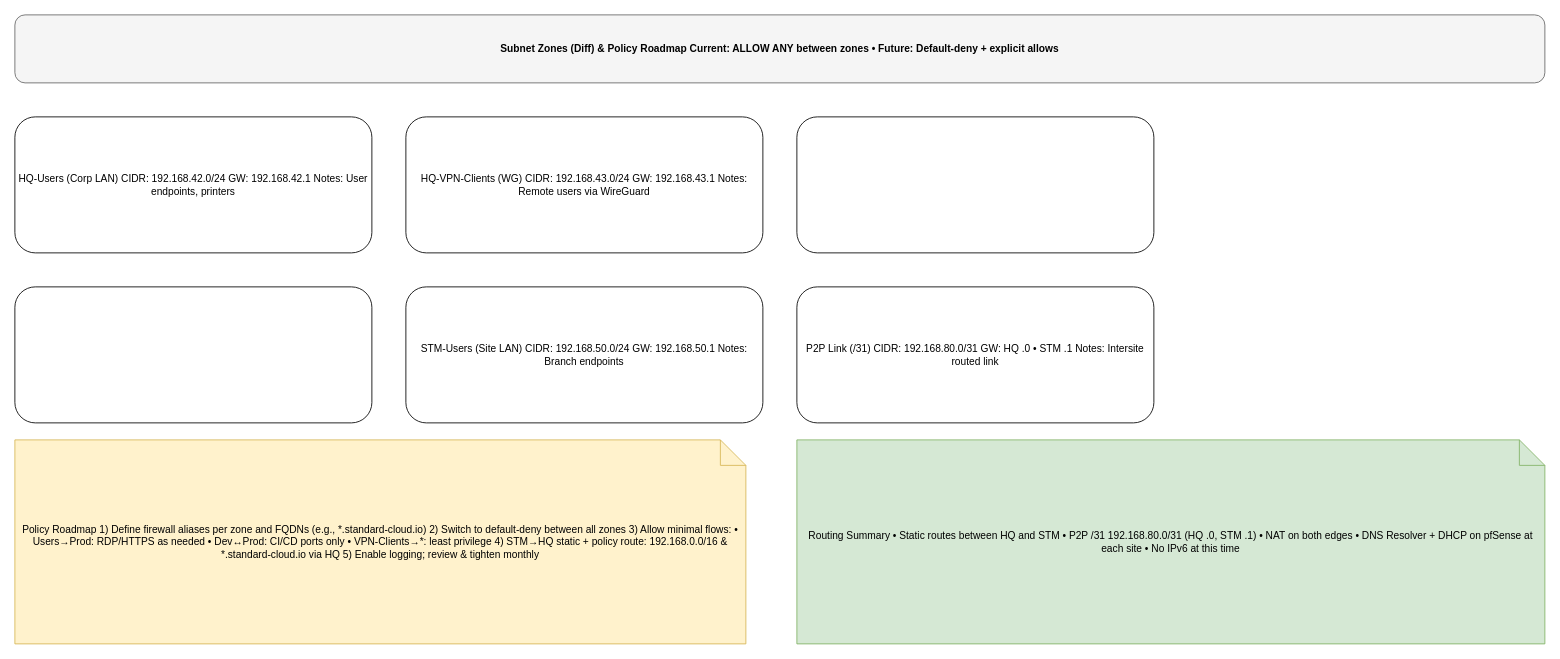
Image size: 1560x659. Some labels were removed from this diagram. Each missing label, with the centre of its shape:
"HQ‑Dev VLAN CIDR: 192.168.44.0/24 GW: 192.168.44.1 Notes: Dev/test workloads" belongs at point (975, 184).
"HQ‑Prod VLAN CIDR: 192.168.45.0/24 GW: 192.168.45.1 Notes: Production systems" belongs at point (193, 354).
